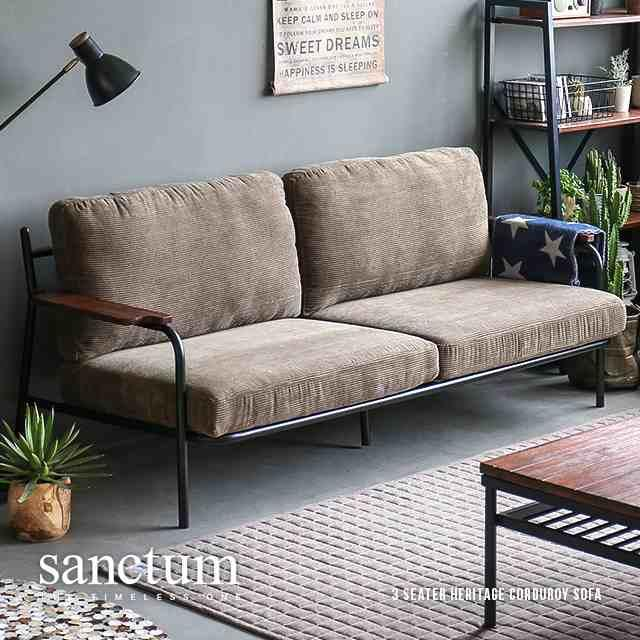vintage sofa: (10, 143, 607, 519)
